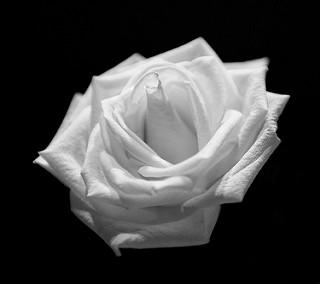Rose: (30, 31, 292, 258)
